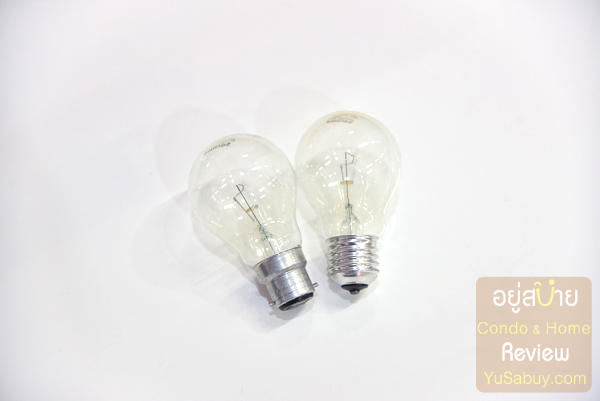Light_bulb: (183, 130, 322, 315), (289, 104, 406, 306)
